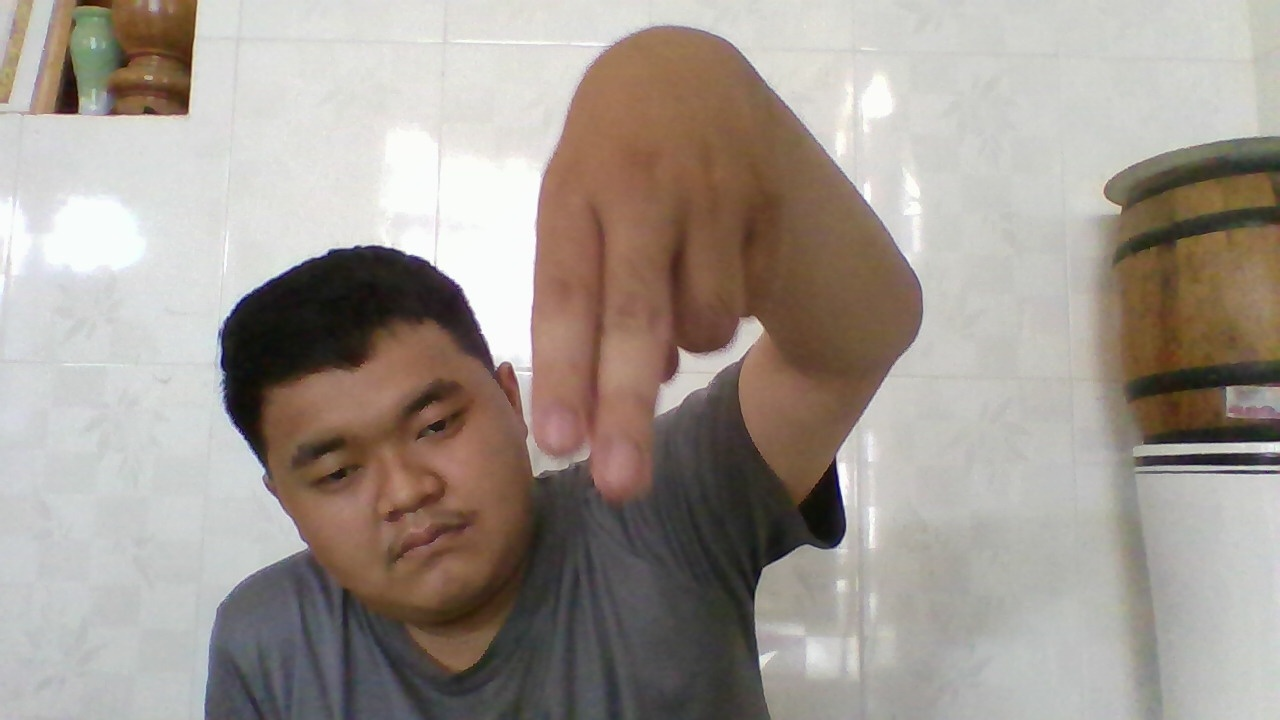N: (539, 34, 786, 497)
